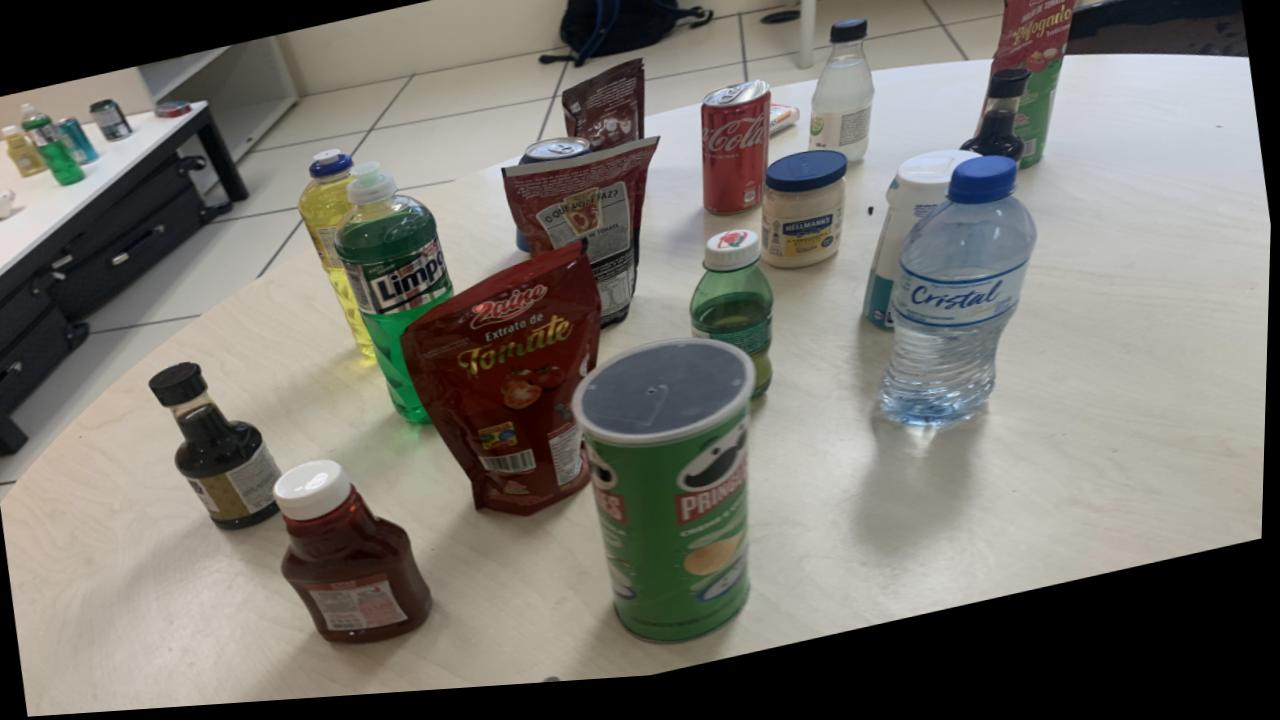Cleaner-Cleanup_Items: (865, 162, 977, 341)
Coffee-Pantry_Items: (563, 67, 646, 160)
Coke-Drinks: (701, 90, 773, 224)
Detergent-Cleanup_Items: (336, 167, 455, 428), (299, 153, 376, 361), (21, 104, 86, 186)
English_Sauce-Pantry_Items: (152, 365, 285, 532), (963, 82, 1032, 175)
Guarana-Drinks: (691, 238, 776, 408)
Guarana_Can-Drinks: (90, 100, 134, 143)
Ketchup-Pantry_Items: (276, 463, 436, 648)
Mayonnaise-Pantry_Items: (763, 160, 849, 280)
Mustard-Pantry_Items: (1, 125, 47, 178)
Pig_Safe-Miscellaneous: (0, 189, 18, 219)
Pringles-Snacks: (574, 348, 758, 652)
Soap-Cleanup_Items: (770, 114, 801, 144)
Soda-Drinks: (810, 30, 876, 173)
Tea-Drinks: (56, 117, 99, 166)
Tomato_Sauce-Pantry_Items: (404, 249, 603, 522), (504, 145, 661, 334), (991, 0, 1080, 182)
Tonic-Drinks: (521, 144, 593, 172)
Tuna_Can-Pantry_Items: (156, 102, 192, 120)
Water_Bottle-Drinks: (882, 209, 1039, 441)
